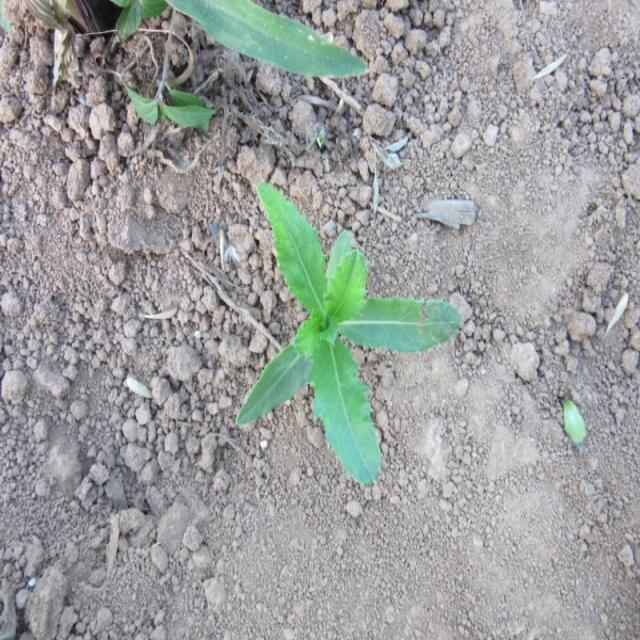cs: (234, 175, 464, 487)
